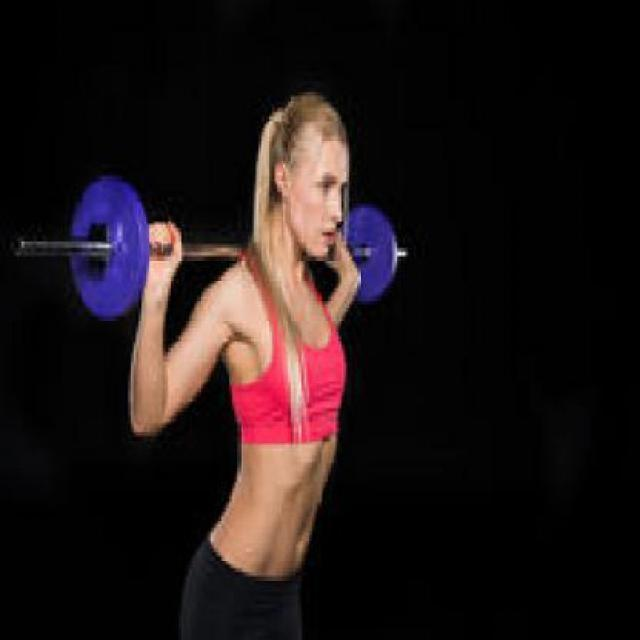Barbell: (5, 224, 30, 268)
